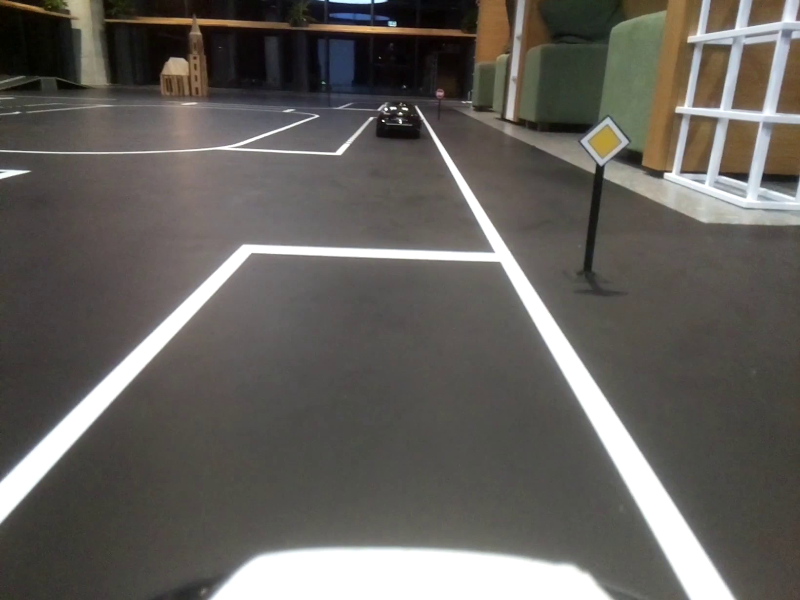priority: (583, 124, 623, 160)
